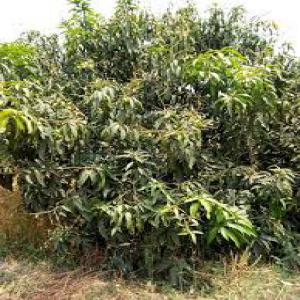Tree: (3, 3, 295, 270)
